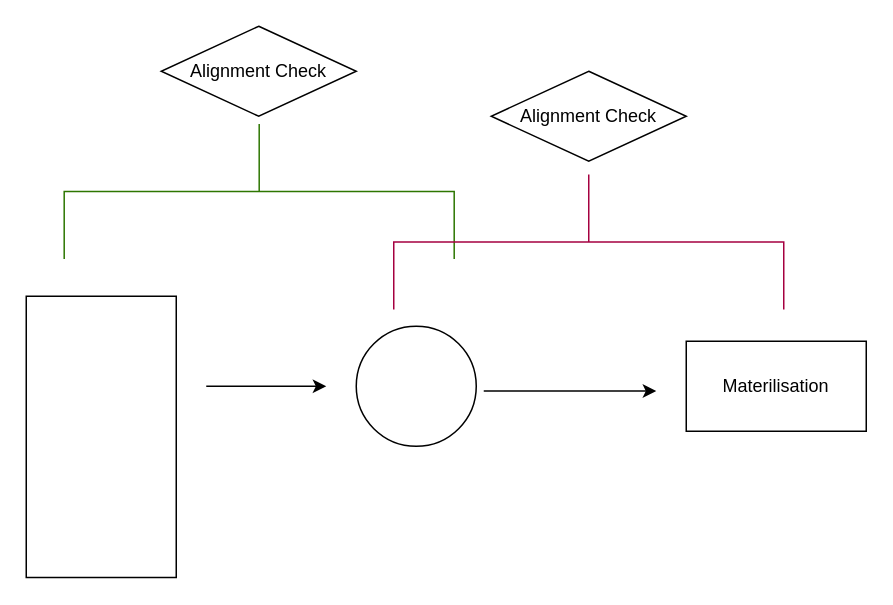
This 893x605 diagram has some shape labels left out. Here are the shapes that lost their labels. From the top down, the centre of each, then its label:
At point (415, 385): "Comm Substrate".
At point (100, 436): "Raw Context".
